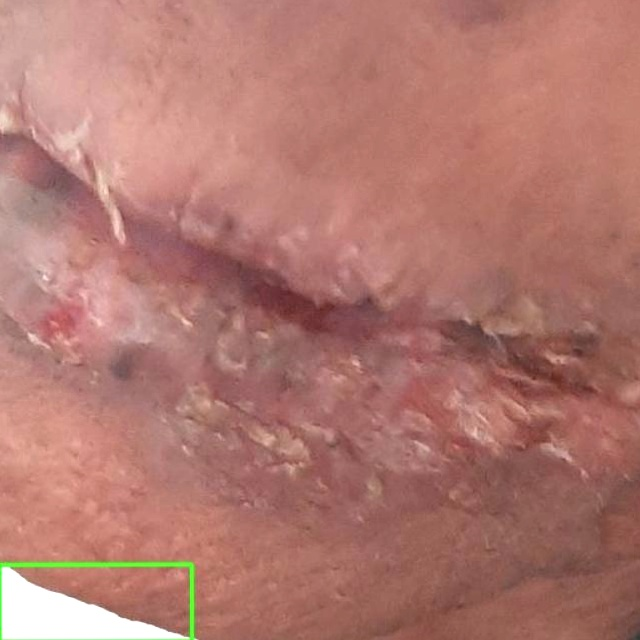Contact Dermatitis: (0, 564, 193, 639)
